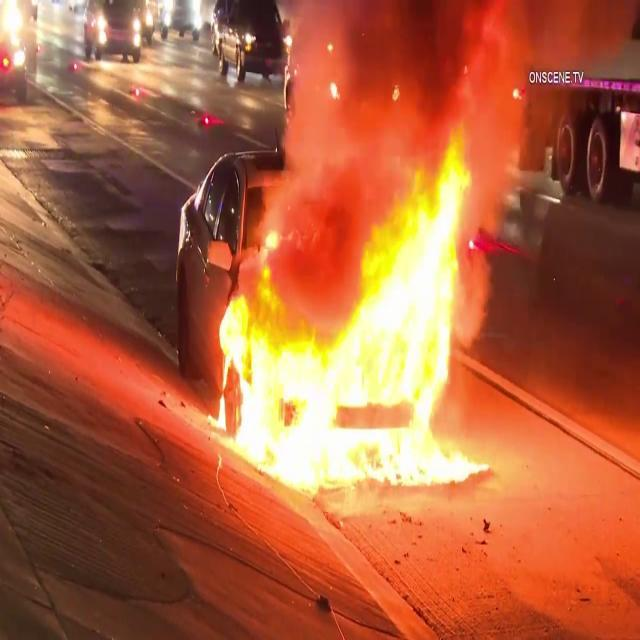Fire: (213, 234, 494, 494)
Smoke: (266, 0, 562, 220)
